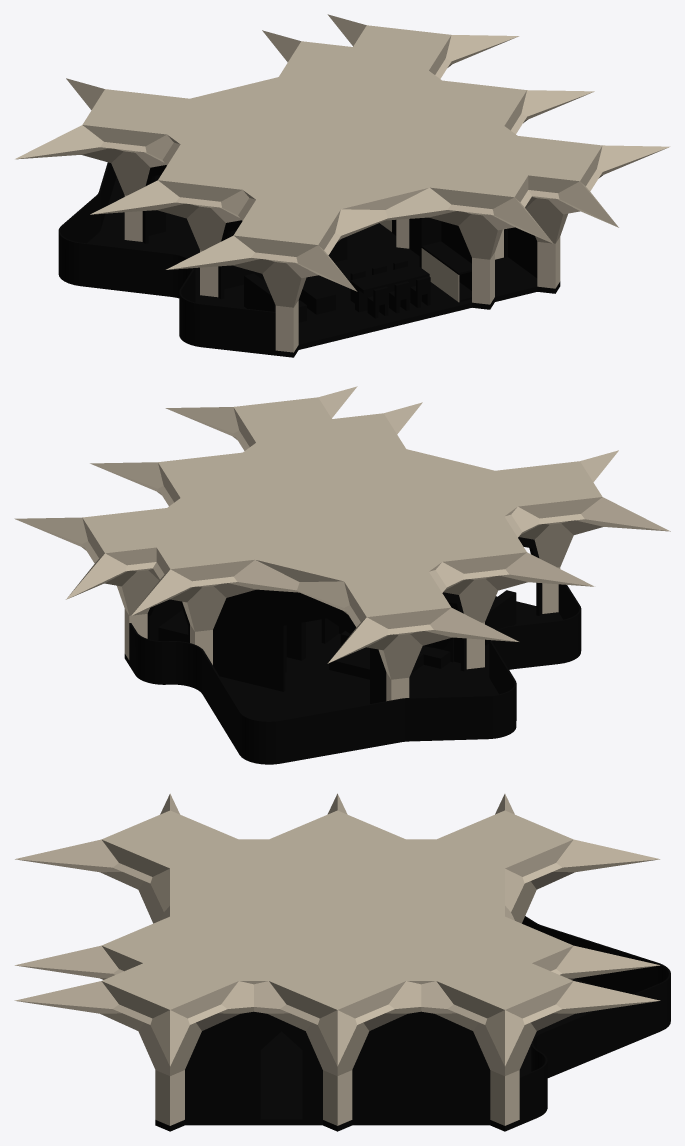
3 renders of one model, top to bottom at view 1: azimuth 30°, elevation 25°; view 2: azimuth 150°, elevation 25°; view 3: azimuth 270°, elevation 25°, orthographic. The views are drawn at different scales.
Parts seen in each view (by area): view 1: santech, object 53, object 2, object 54, object 15, object 63, object 64, object 16, object 43, object 28, object 18, object 29; view 2: santech, object 53, object 55, object 54, object 2, object 37, object 19, object 45, object 20, object 18, object 43; view 3: santech, object 20, object 64, object 53, object 2, object 54.
Part boxes in pixels (<box>): santech: <box>15,14,670,352</box>; object 53: <box>58,162,275,350</box>; object 2: <box>146,223,560,357</box>; object 54: <box>58,177,275,355</box>; object 15: <box>350,264,429,312</box>; object 63: <box>409,218,471,290</box>; object 64: <box>508,227,537,277</box>; object 16: <box>299,278,335,314</box>; object 43: <box>224,230,347,289</box>; object 28: <box>421,241,471,274</box>; object 18: <box>244,273,275,311</box>; object 29: <box>419,217,441,267</box>; santech: <box>14,386,670,701</box>; object 53: <box>129,584,581,759</box>; object 55: <box>213,589,386,703</box>; object 54: <box>129,612,581,764</box>; object 2: <box>124,596,538,707</box>; object 37: <box>329,645,431,679</box>; object 19: <box>158,609,188,642</box>; object 45: <box>286,622,305,660</box>; object 20: <box>151,599,182,640</box>; object 18: <box>485,590,516,626</box>; object 43: <box>321,602,460,662</box>; santech: <box>14,793,660,1125</box>; object 20: <box>352,1011,490,1119</box>; object 64: <box>185,1011,322,1119</box>; object 53: <box>519,916,670,1119</box>; object 2: <box>155,1031,519,1131</box>; object 54: <box>519,978,670,1124</box>.
Bounding box in the file's own units: 15.46 × 3.81 × 15.7.
